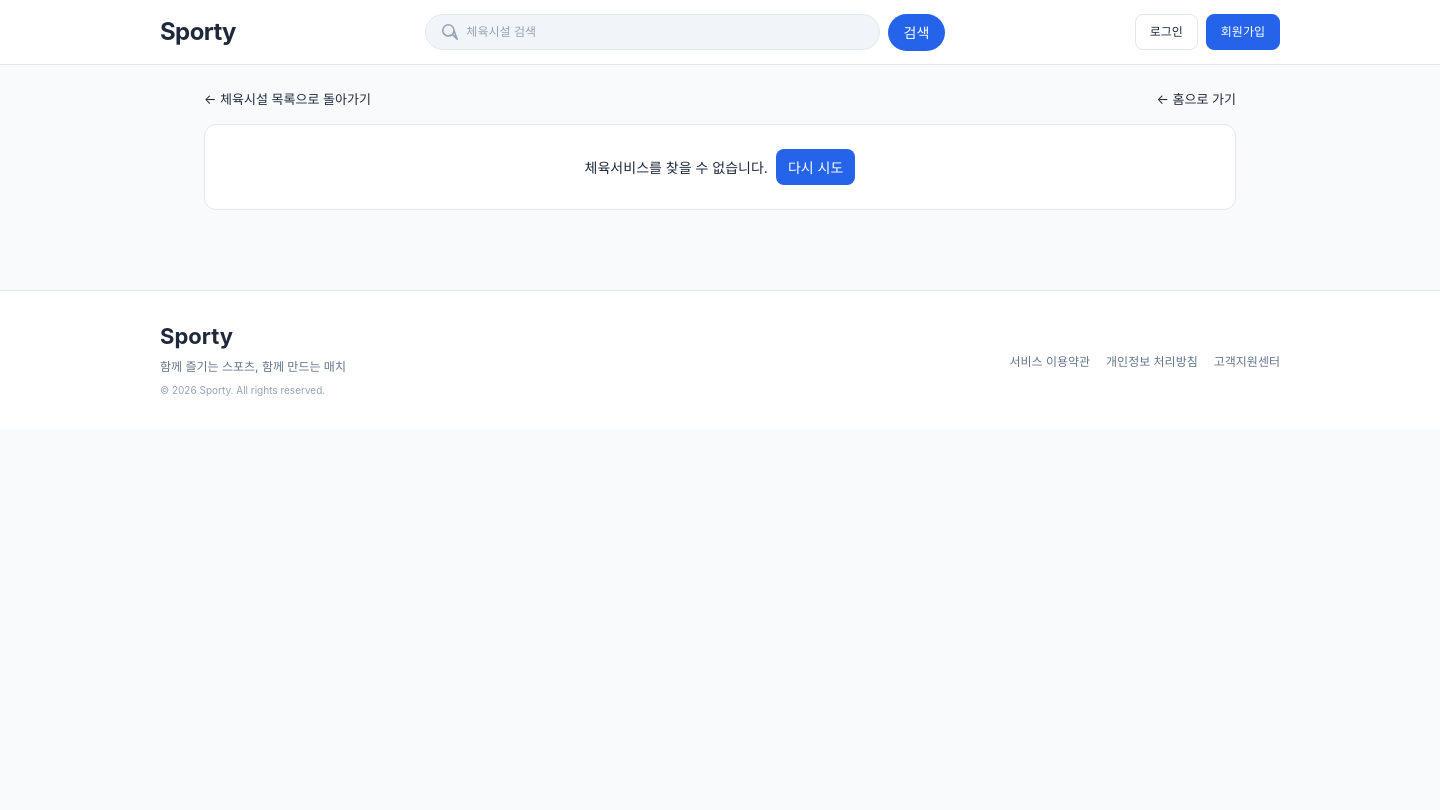
it: 없는 서비스는 다시 시도할 수 있다
The width and height of the screenshot is (1440, 810).
expect the message shows "체육서비스를 찾을 수 없습니다.": met, box [585,159,768,176]
Click the button "다시 시도". click: point(816, 167)
box: [776,149,855,185]
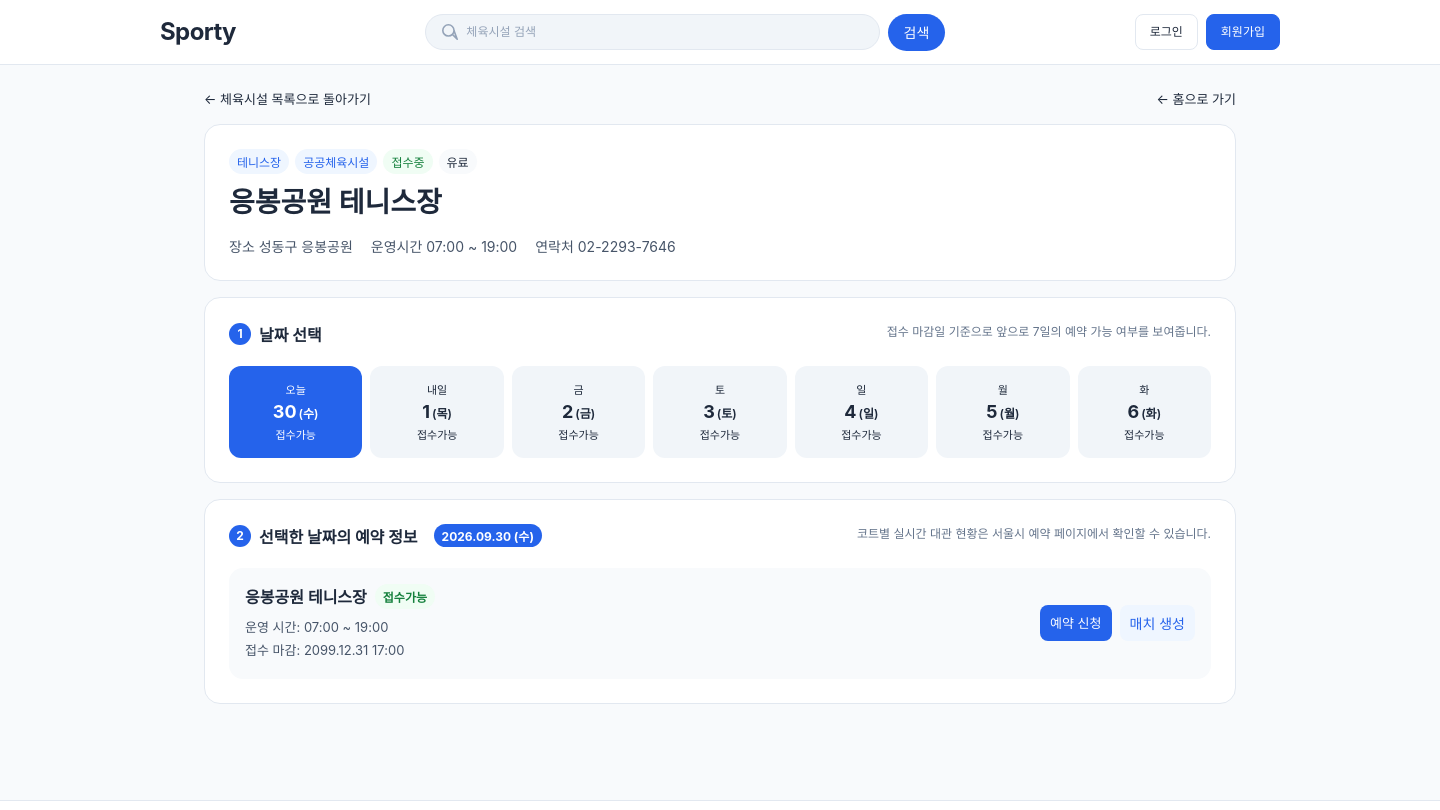
expect the heading "응봉공원 테니스장" is shown: met, box [229,185,442,219]
